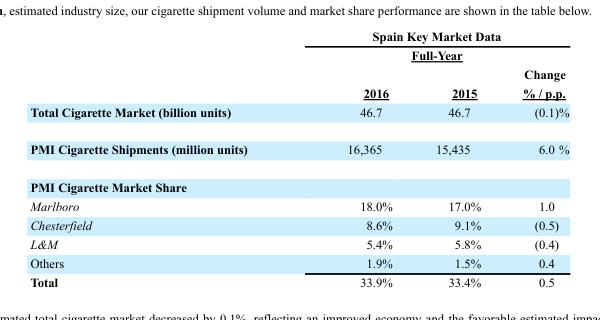table: (29, 28, 568, 288)
table column: (29, 28, 296, 288), (296, 28, 413, 288), (413, 28, 501, 288), (501, 28, 568, 288)
table column header: (29, 28, 568, 101)
table projected row header: (29, 168, 568, 196)
table row: (29, 63, 568, 101), (29, 130, 568, 168), (29, 28, 568, 63), (29, 101, 568, 130), (29, 168, 568, 196), (29, 196, 568, 215), (29, 215, 568, 234), (29, 234, 568, 253), (29, 253, 568, 272), (29, 272, 568, 288)
table spanning cell: (296, 28, 568, 63)
